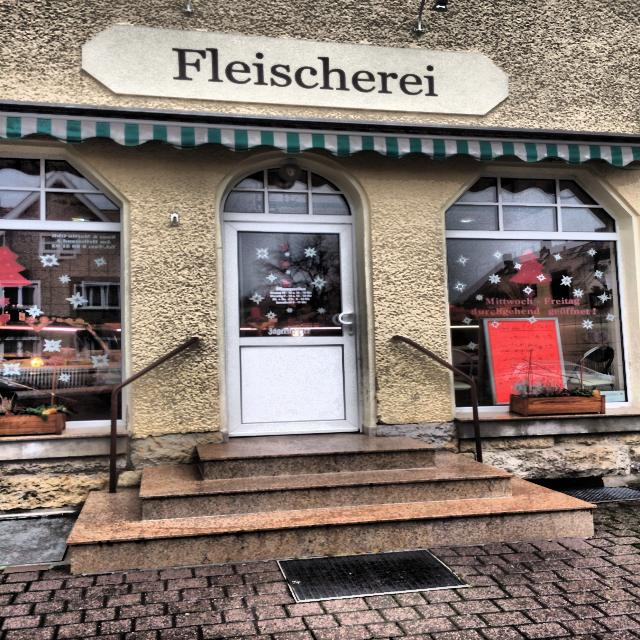escada: (70, 448, 594, 576)
